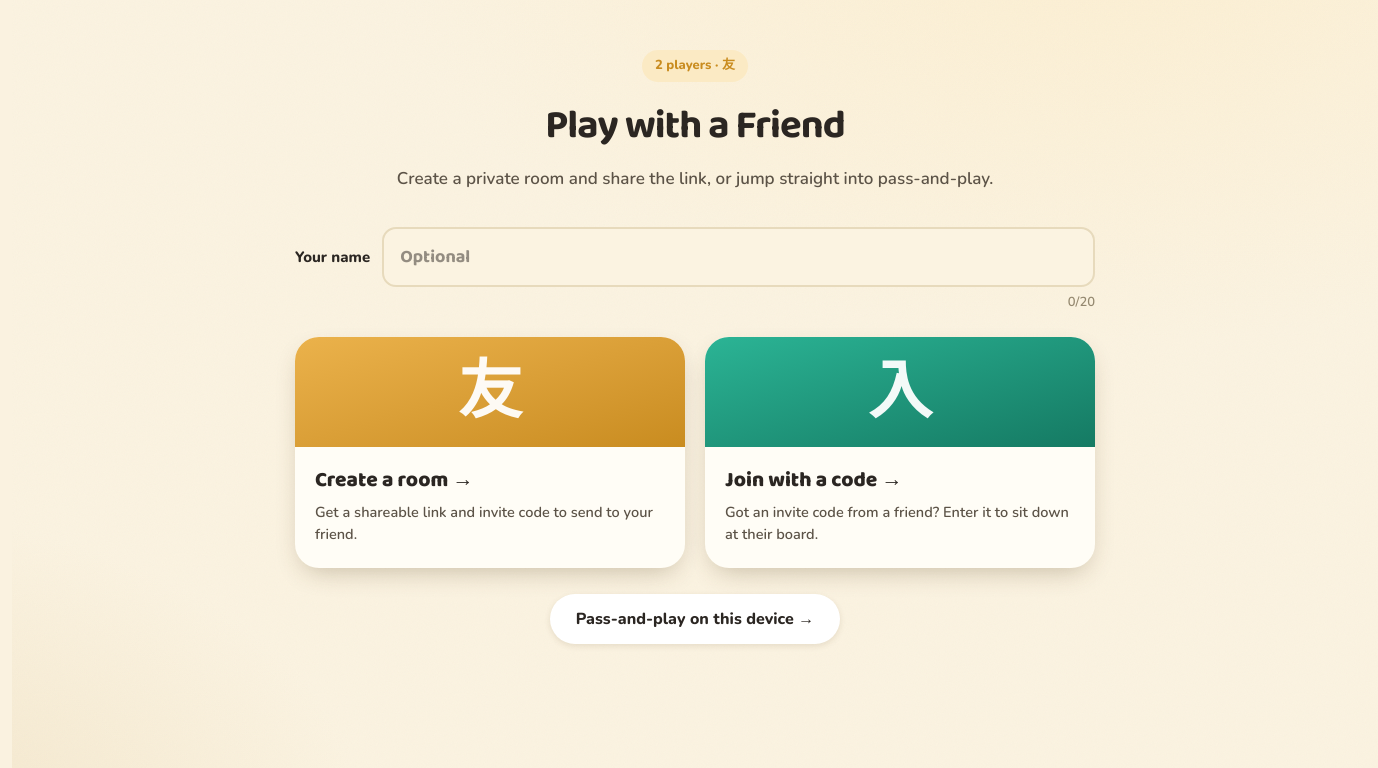
Test case: MultiplayerScreen online waiting panel › shows invite panel and a waiting status until the opponent joins
Click the button "Create a room".
click(490, 392)  # box [295, 336, 685, 568]
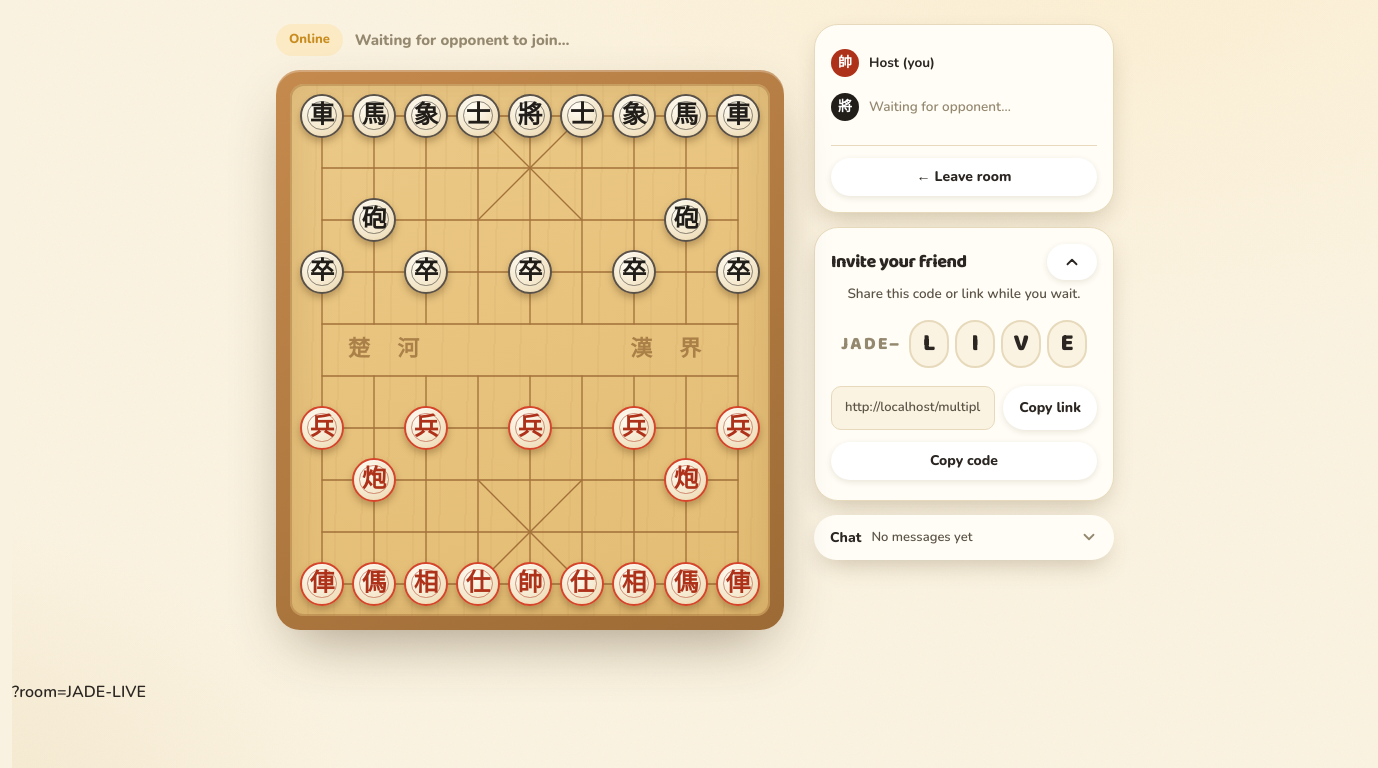
Now the element with test id "waiting-invite-panel" is shown, box [814, 227, 1114, 501]
Now the text "Waiting for opponent to join…" is shown, box [355, 28, 569, 51]
